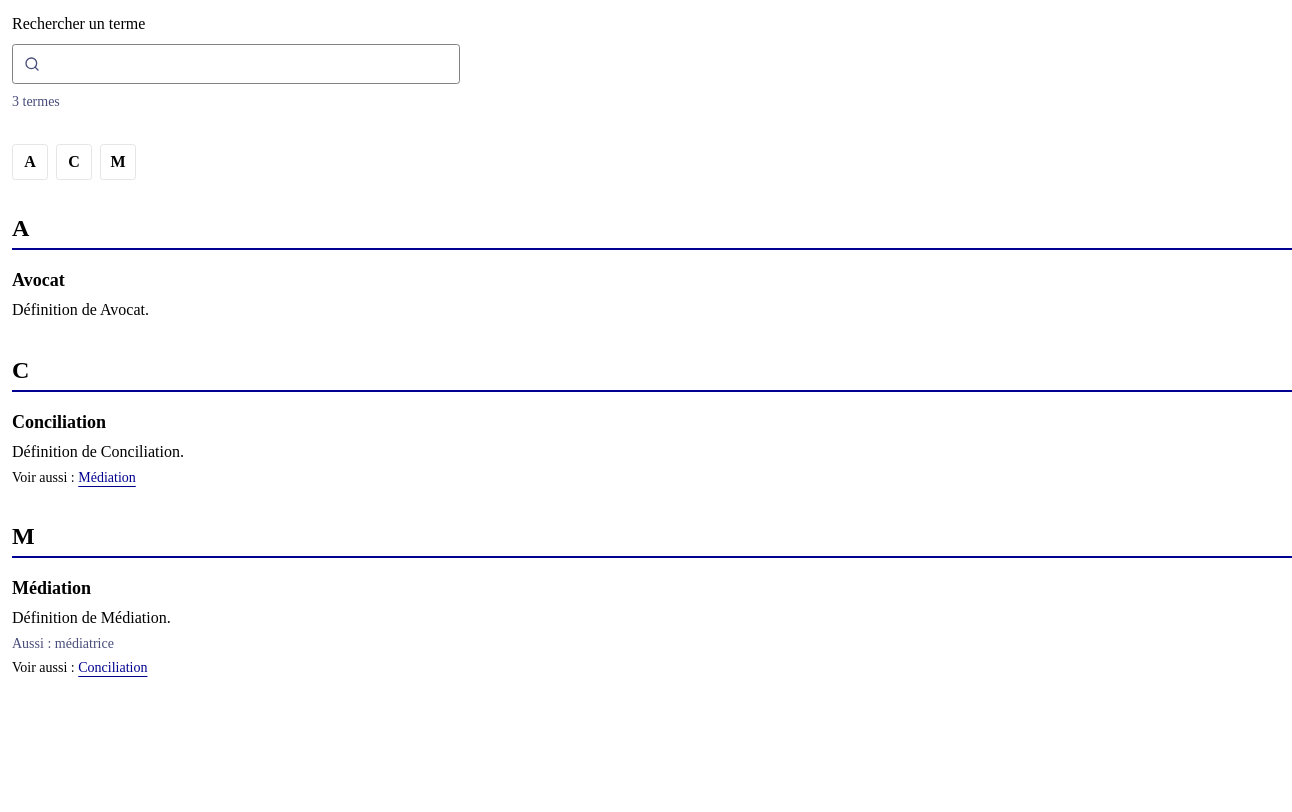
Scenario: GlossaryList › says when nothing matches, without empty headings
Type "xyz" into the search field labelled "Rechercher un terme". click: (236, 64)
box: [12,44,460,84]
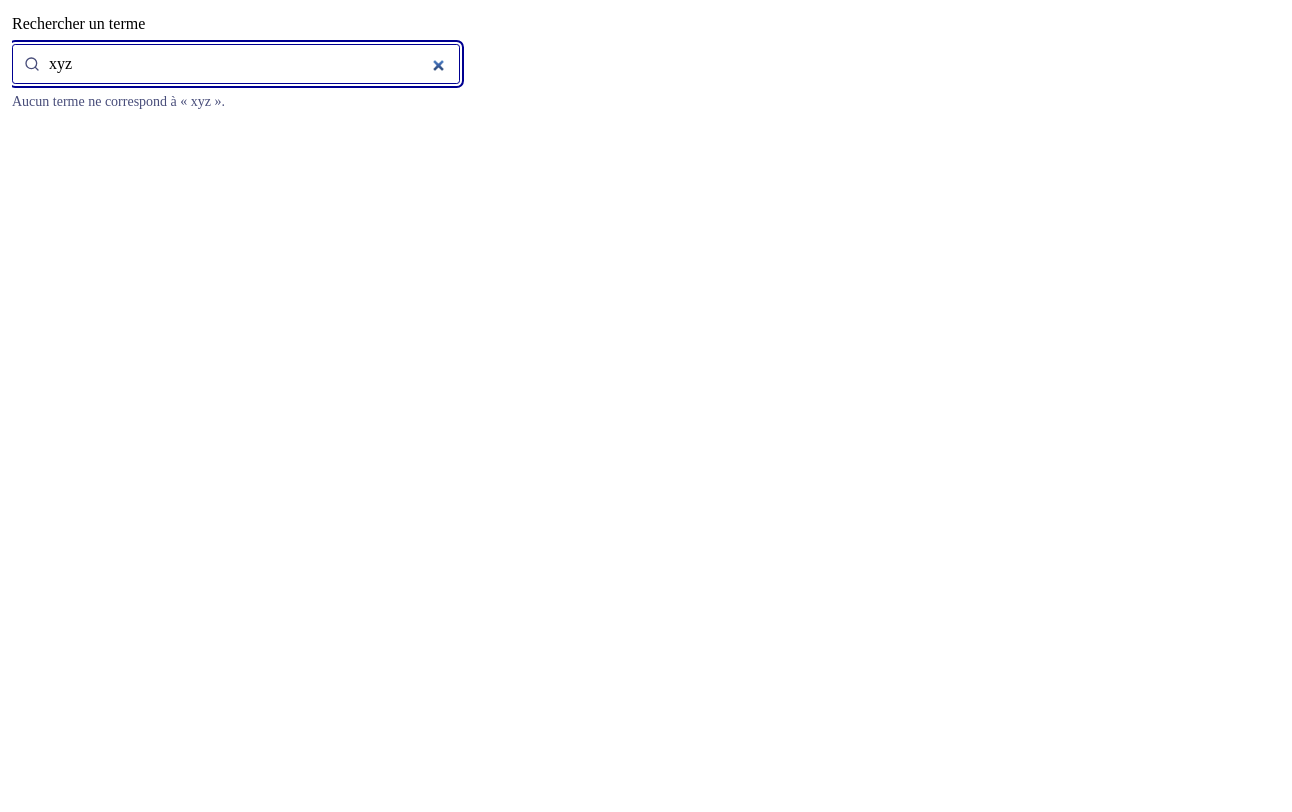
Now the message reads "Aucun terme ne correspond à « xyz ».", box [12,94,225,109]
